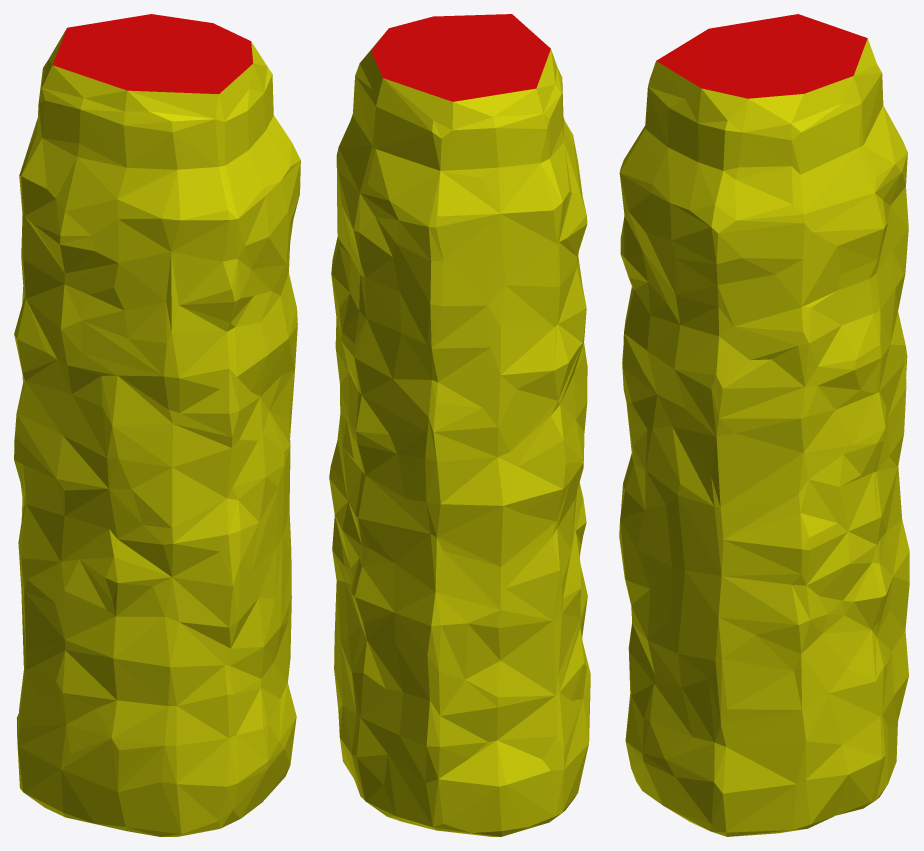
3 views of the same model, side by side, from view 1: azimuth 30°, elevation 25°; view 2: azimuth 150°, elevation 25°; view 3: azimuth 270°, elevation 25° (orthographic).
Visible parts, largest first — view 1: polySurface3; view 2: polySurface3; view 3: polySurface3.
Part boxes in pixels (bbox=[...]): polySurface3: bbox=[14, 14, 300, 836]; polySurface3: bbox=[329, 14, 590, 836]; polySurface3: bbox=[619, 14, 909, 836].
Size of the model in its own units: 13.06 by 38.11 by 13.59.
